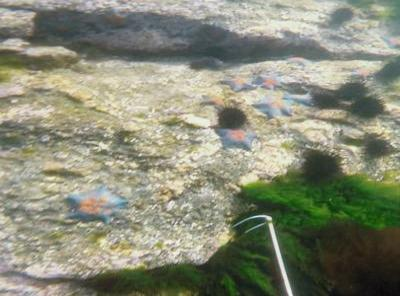urchin: (303, 148, 342, 182), (352, 93, 387, 119), (218, 104, 248, 130), (312, 90, 340, 112), (364, 137, 390, 160), (340, 80, 368, 101), (332, 5, 355, 24)
